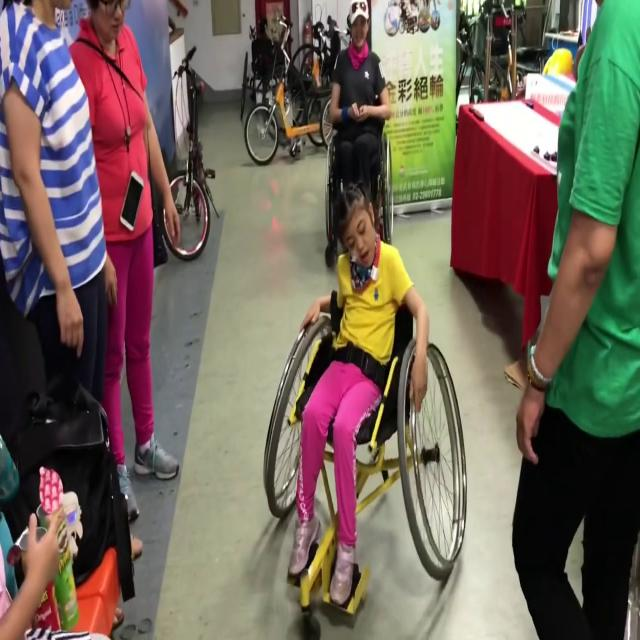wheelchairs: (255, 250, 472, 618)
